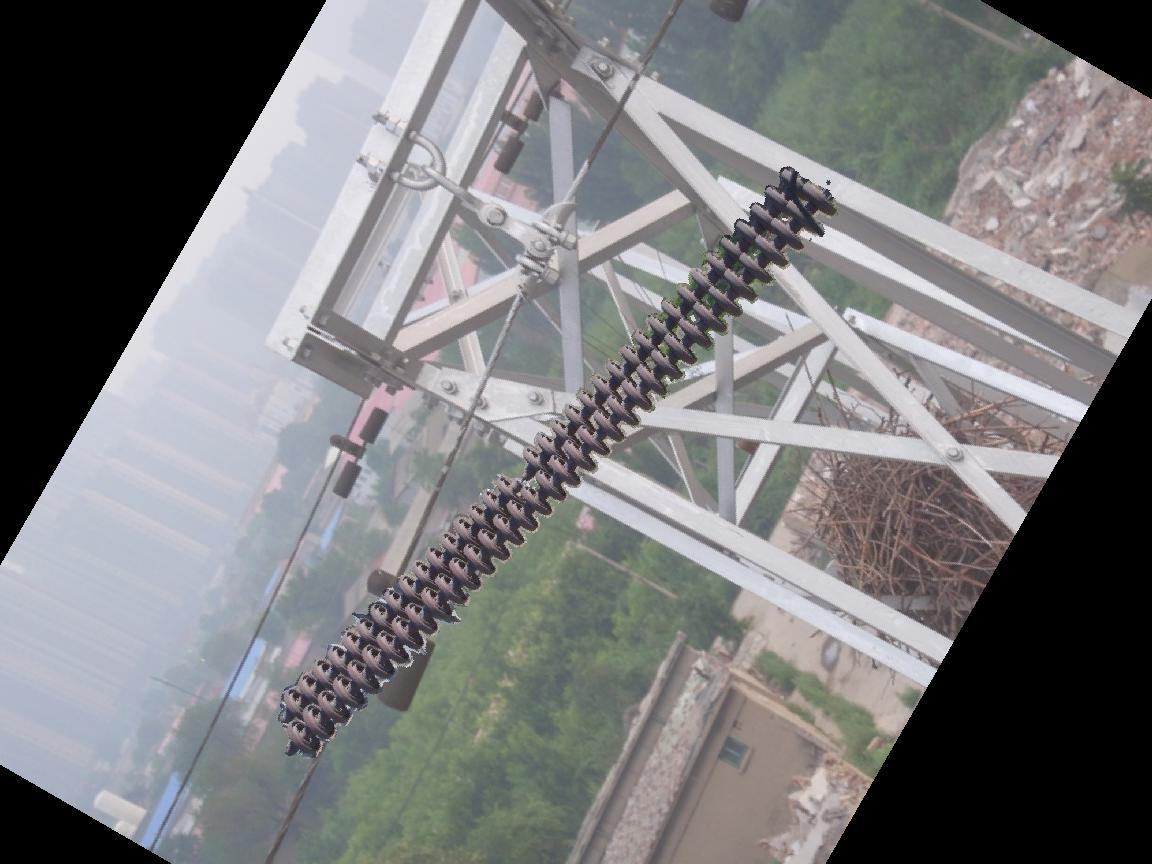insulator: (268, 164, 836, 759)
insulator_stringdrop: (488, 441, 547, 502)
